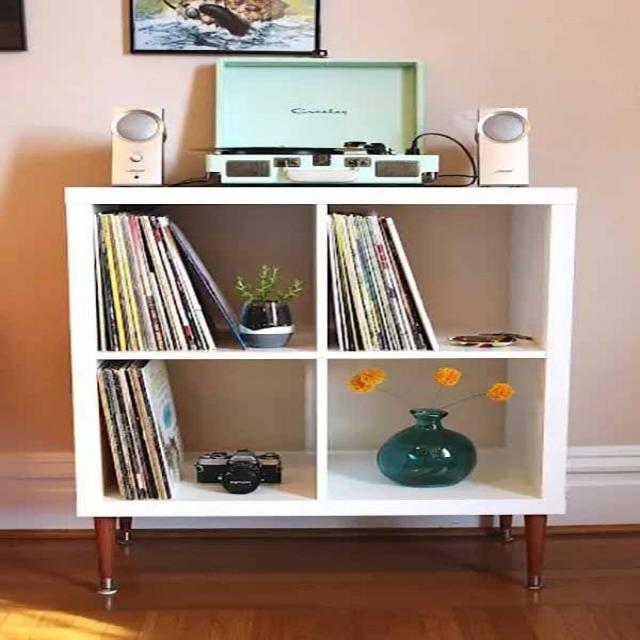Shelf: (55, 178, 586, 606)
